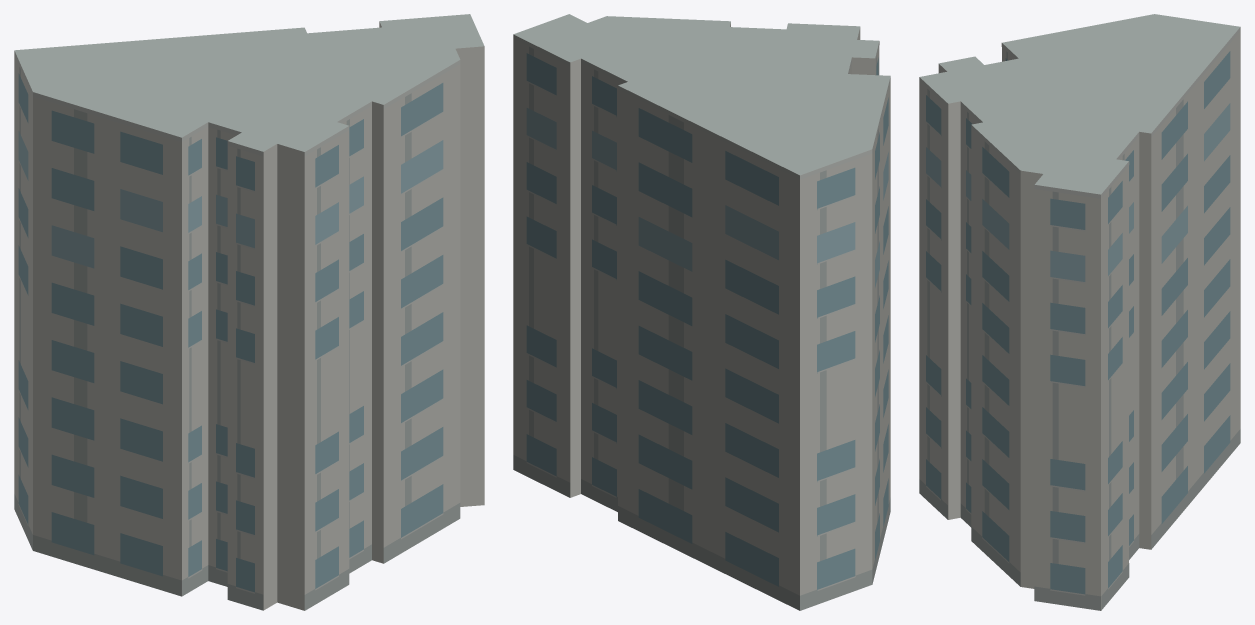
Rendered from survey-upis-32628275.glb.
The picture shows the model from 3 angles, left to right: view 1: azimuth 30°, elevation 25°; view 2: azimuth 150°, elevation 25°; view 3: azimuth 270°, elevation 25°; orthographic projection. The views are drawn at different scales.
Parts seen in each view (by area): view 1: survey-upis-32628275.tmp; view 2: survey-upis-32628275.tmp; view 3: survey-upis-32628275.tmp.
Part boxes in pixels (bbox=[...]): survey-upis-32628275.tmp: bbox=[14, 14, 484, 610]; survey-upis-32628275.tmp: bbox=[513, 14, 890, 610]; survey-upis-32628275.tmp: bbox=[919, 14, 1240, 610].
Size of the model in its own units: 22.71 by 24.4 by 17.07.
